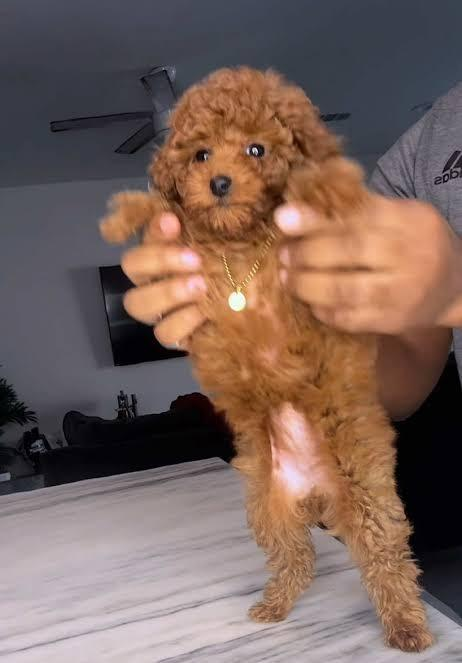puppy-dog: (99, 63, 438, 653)
